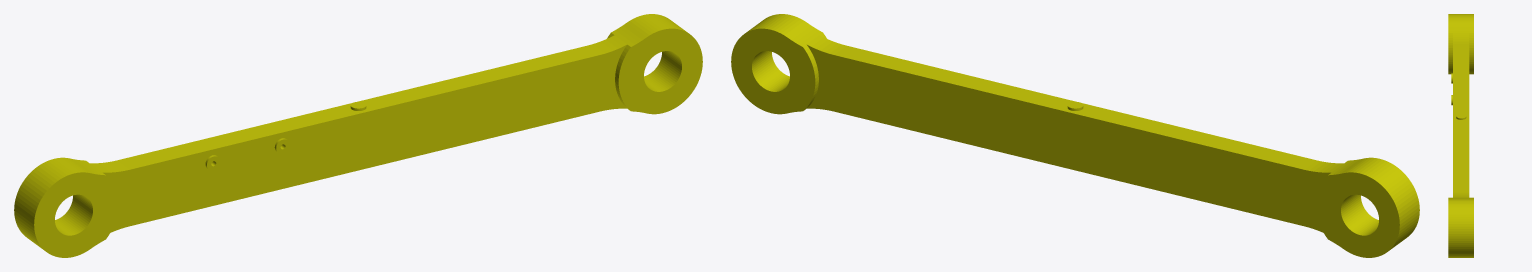
The picture shows the model from 3 angles, left to right: view 1: azimuth 30°, elevation 25°; view 2: azimuth 150°, elevation 25°; view 3: azimuth 270°, elevation 25°; orthographic projection. The views are drawn at different scales.
Parts seen in each view (by area): view 1: node; view 2: node; view 3: node.
Part boxes in pixels (box(x1,y1,x2,y2)): node: box(14, 14, 702, 257); node: box(731, 14, 1419, 257); node: box(1448, 14, 1473, 257).
Bounding box in the file's own units: 1930 × 230 × 269.
